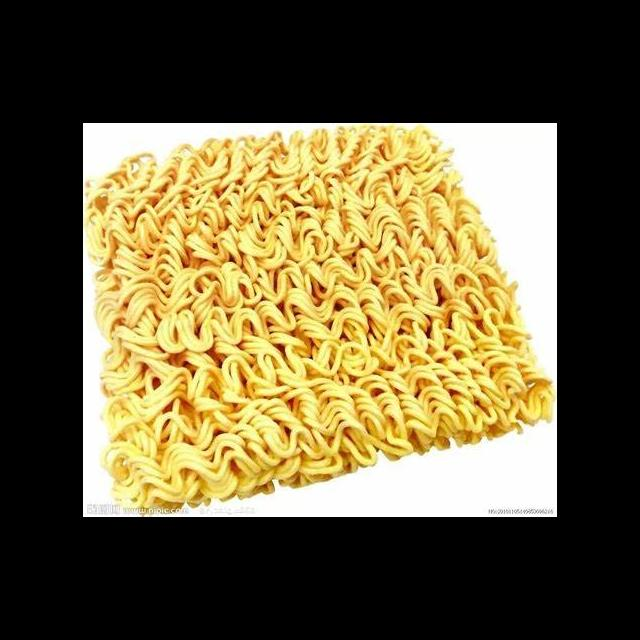food_waste: (83, 126, 557, 501)
